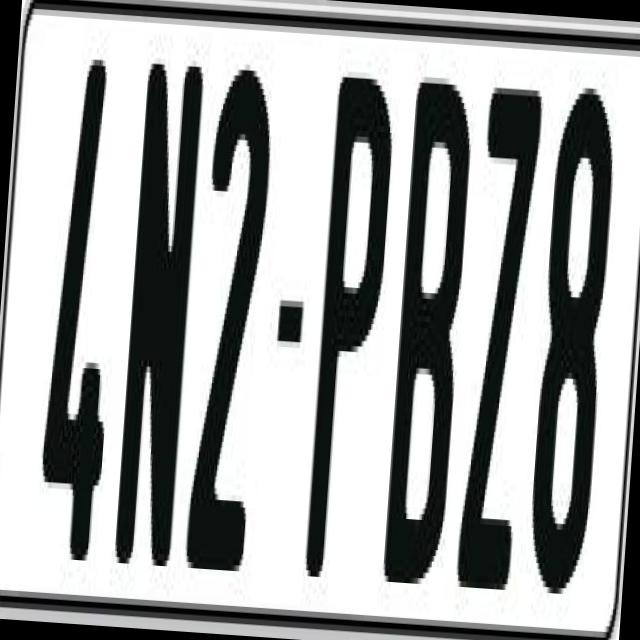2: (183, 62, 280, 589)
4: (35, 46, 129, 550)
8: (520, 80, 616, 618)
B: (381, 82, 479, 590)
N: (110, 57, 206, 596)
P: (306, 70, 400, 574)
Z: (453, 87, 546, 626)
